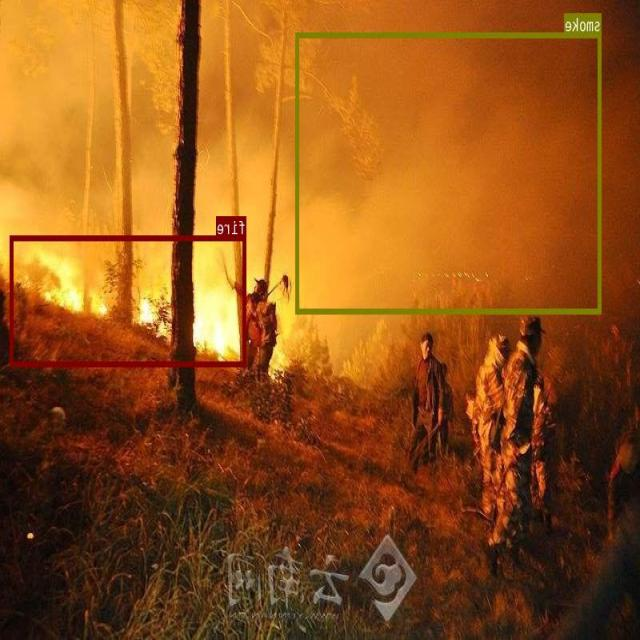fire: (10, 234, 246, 366)
smoke: (296, 32, 602, 312)
